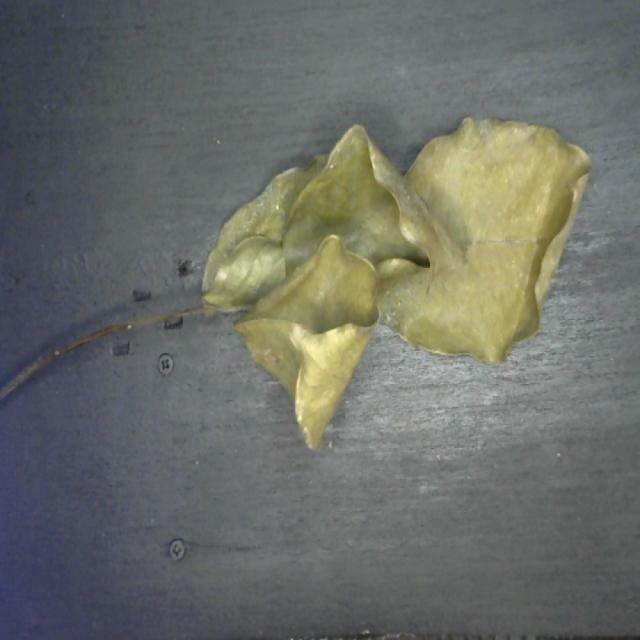biodegradable: (195, 111, 599, 457)
